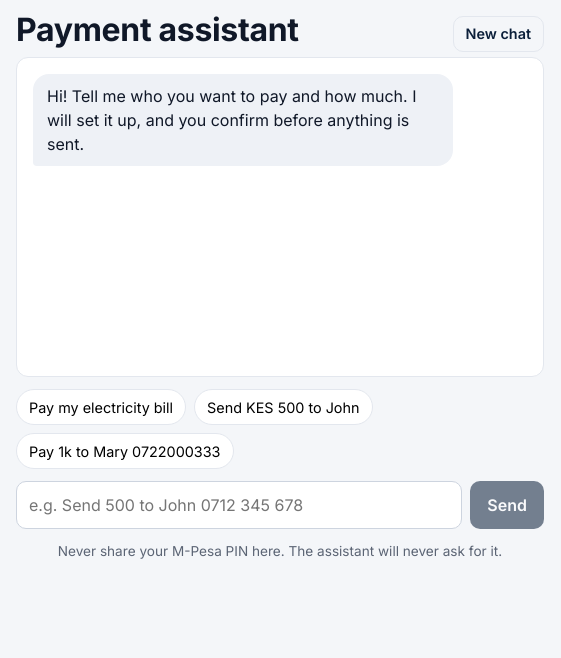
Test case: AssistantPage › offers Retry after an error
Click the button "Send KES 500 to John": click(283, 407) [194,389,372,425]
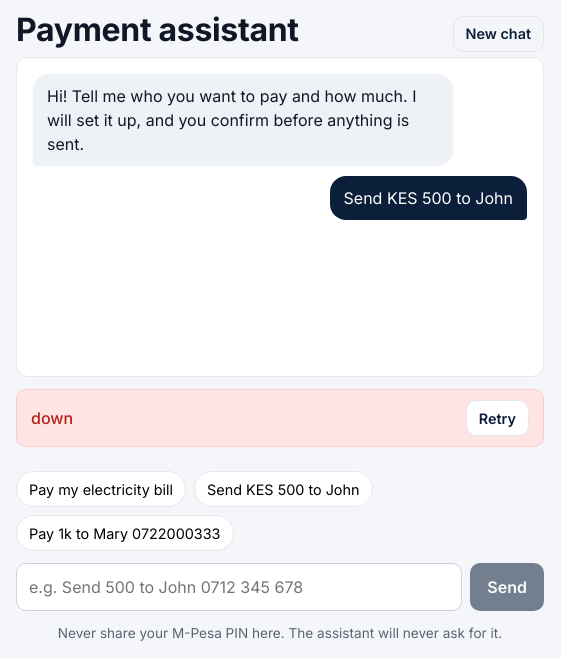
Now the message shows "down", box [31,408,73,428]
Click the button "Retry": click(497, 418) [466,400,529,436]
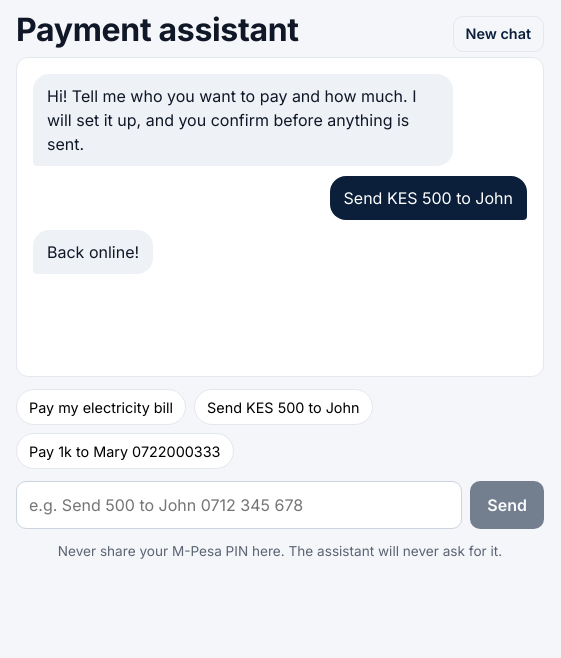
Now the text "Back online!" is shown, box [47,240,139,264]
